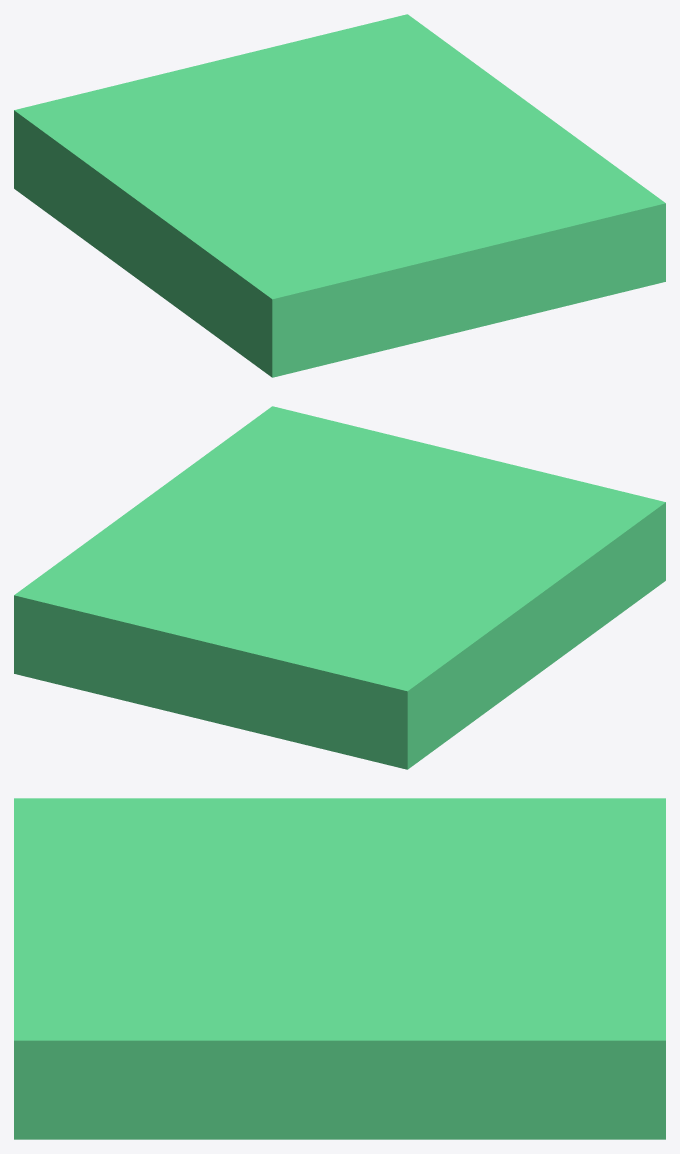
The model's file is rubble_pile_d.glb.
The picture shows the model from 3 angles, top to bottom: view 1: azimuth 30°, elevation 25°; view 2: azimuth 150°, elevation 25°; view 3: azimuth 270°, elevation 25°; orthographic projection. The views are drawn at different scales.
Visible parts, largest first — view 1: rubble_pile_d-col; view 2: rubble_pile_d-col; view 3: rubble_pile_d-col.
Boxes of the visible parts, x1,y1,x2,y2 form: rubble_pile_d-col: (14, 14, 665, 377); rubble_pile_d-col: (14, 406, 665, 769); rubble_pile_d-col: (14, 798, 665, 1139).
Bounding box in the file's own units: 3.21 × 0.6125 × 3.66.
